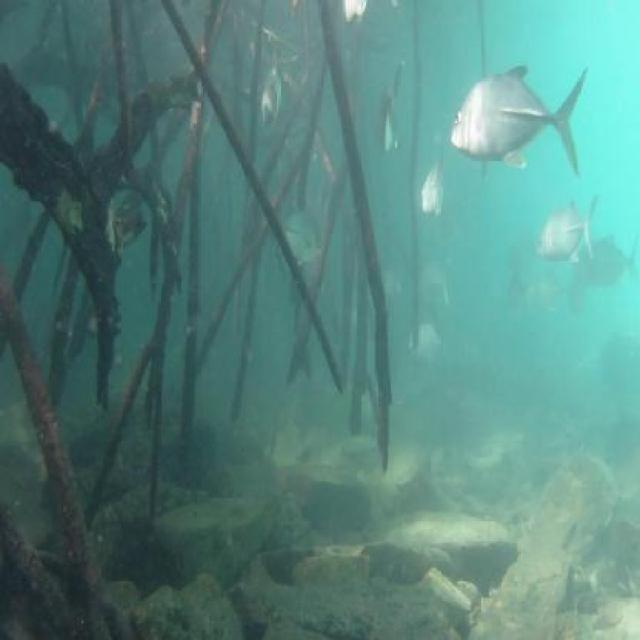Caranx_sexfasciatus_juvenile: (448, 55, 586, 176), (276, 190, 322, 284), (534, 195, 597, 263), (578, 226, 640, 292), (525, 262, 570, 322), (415, 255, 459, 314), (372, 80, 400, 166), (371, 257, 409, 320), (256, 70, 292, 136), (418, 155, 450, 228), (404, 314, 447, 368), (503, 230, 545, 284)
